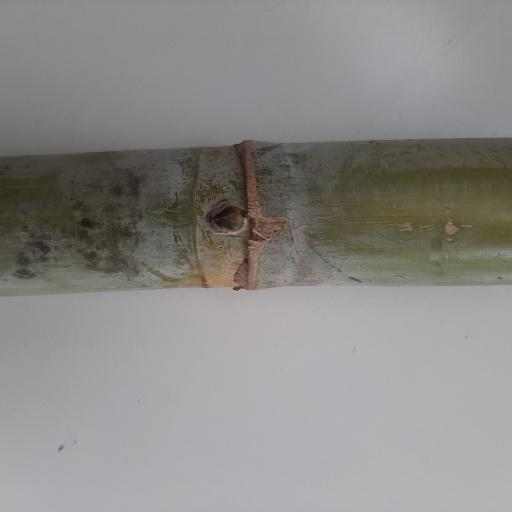Bud: (207, 201, 245, 235)
